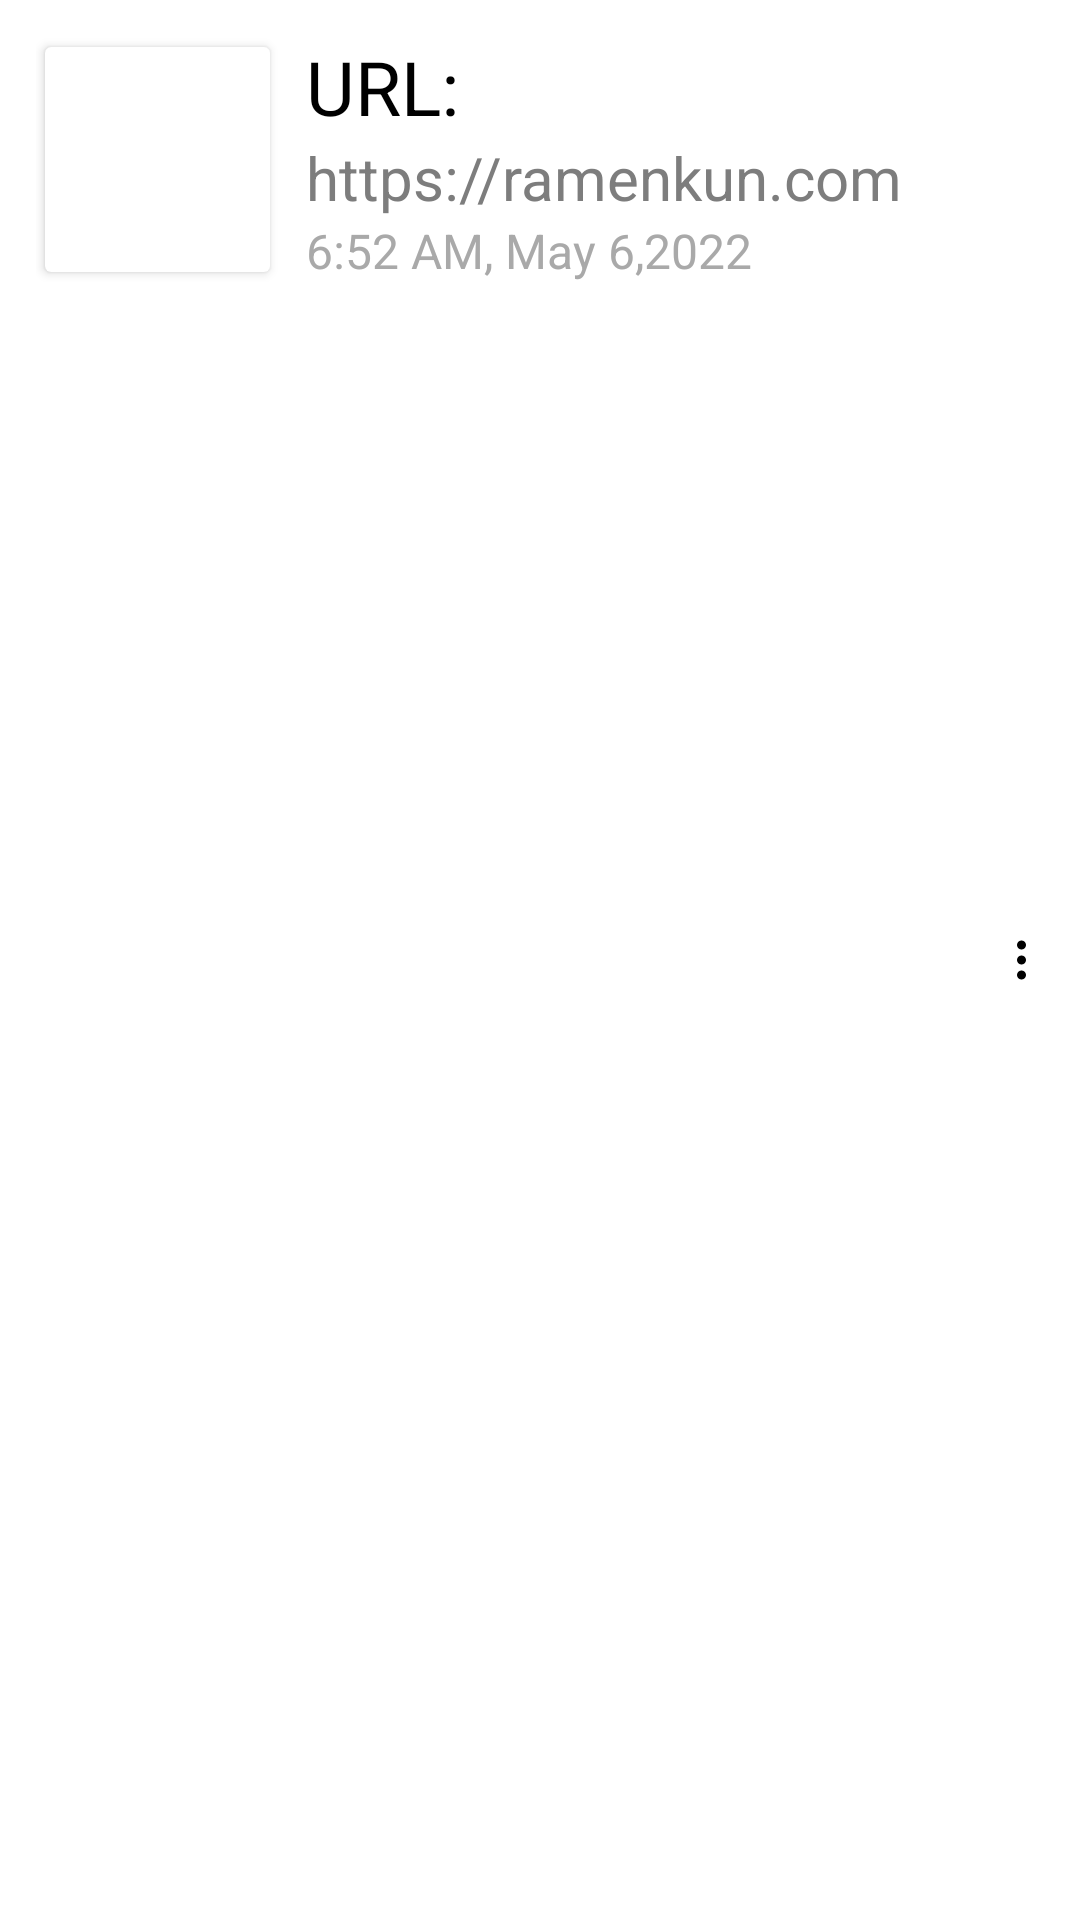

Screen size 1080*1920. Icon name, then its box in pixels as (x1, y1, x2, y2):
more: (1017, 940, 1026, 980)
